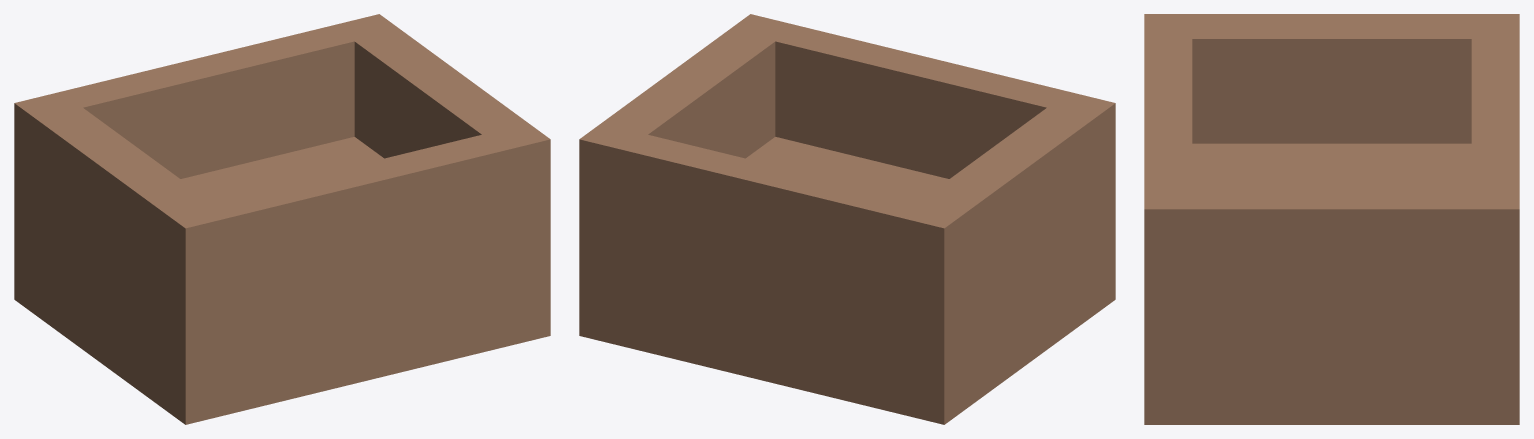
The model's file is kotaknaroh.fbx.
3 renders of one model, left to right at view 1: azimuth 30°, elevation 25°; view 2: azimuth 150°, elevation 25°; view 3: azimuth 270°, elevation 25°, orthographic. The views are drawn at different scales.
Parts seen in each view (by area): view 1: Cube; view 2: Cube; view 3: Cube.
Part boxes in pixels (<box>): Cube: <box>14,14,550,424</box>; Cube: <box>579,14,1115,424</box>; Cube: <box>1144,14,1519,424</box>.
Size of the model in its own units: 389 by 200 by 316.
